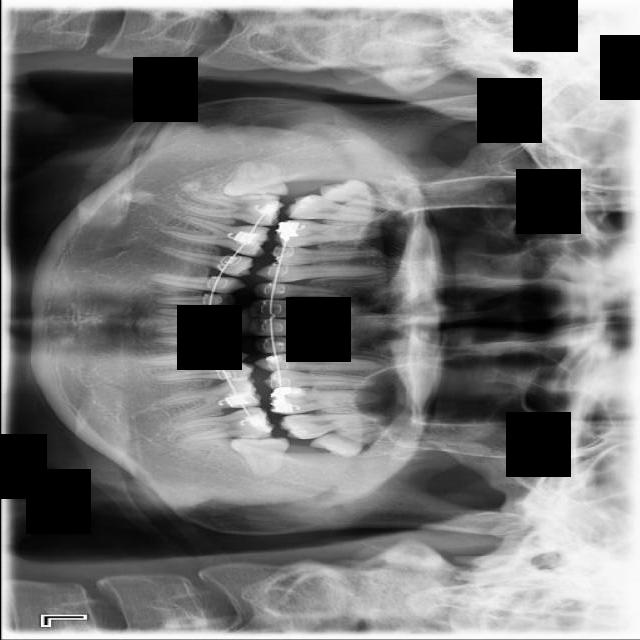3M ESPE Implant: (316, 173, 417, 215)
73: (26, 618, 32, 626)
BioHorizons Implant: (279, 411, 387, 441)
BioLife Implant: (304, 420, 403, 466)
Biomet 3i Implant: (225, 430, 292, 481)
Blue Sky Bio Implant: (173, 405, 275, 445)
Caries: (282, 192, 402, 226)
Implant: (177, 191, 284, 227)
Keystone Dental Implant: (221, 158, 287, 199)
